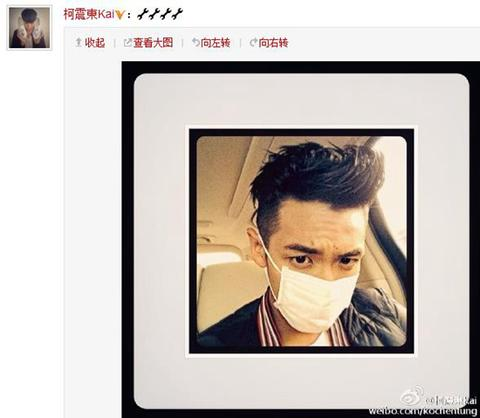mask: (270, 227, 375, 335)
